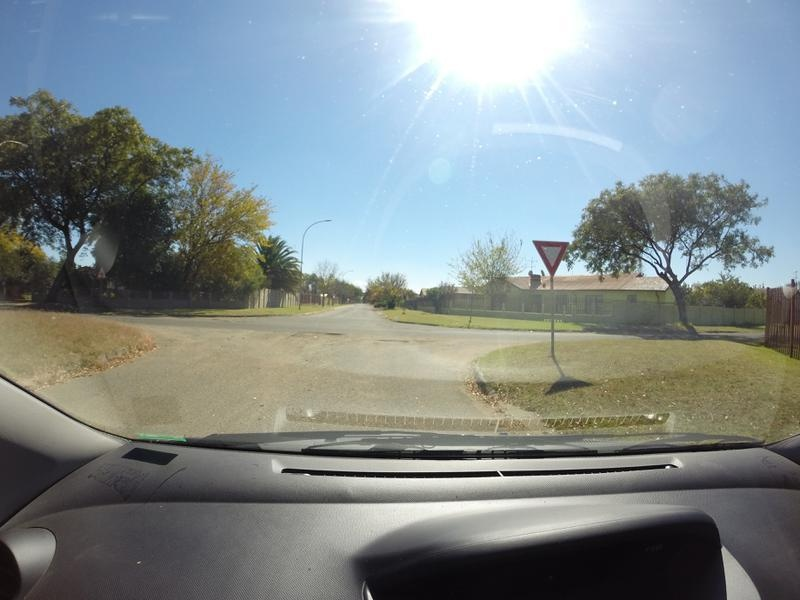pothole: (299, 331, 345, 336), (371, 335, 407, 340)
